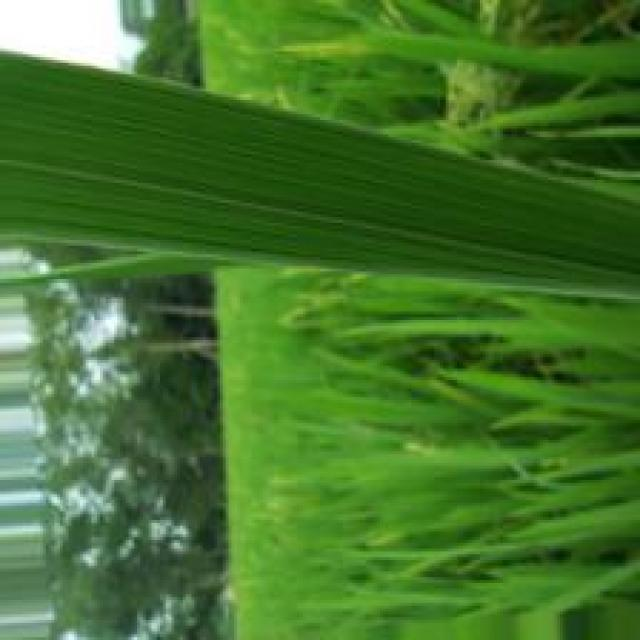HealthyLeaf: (3, 54, 588, 286)
